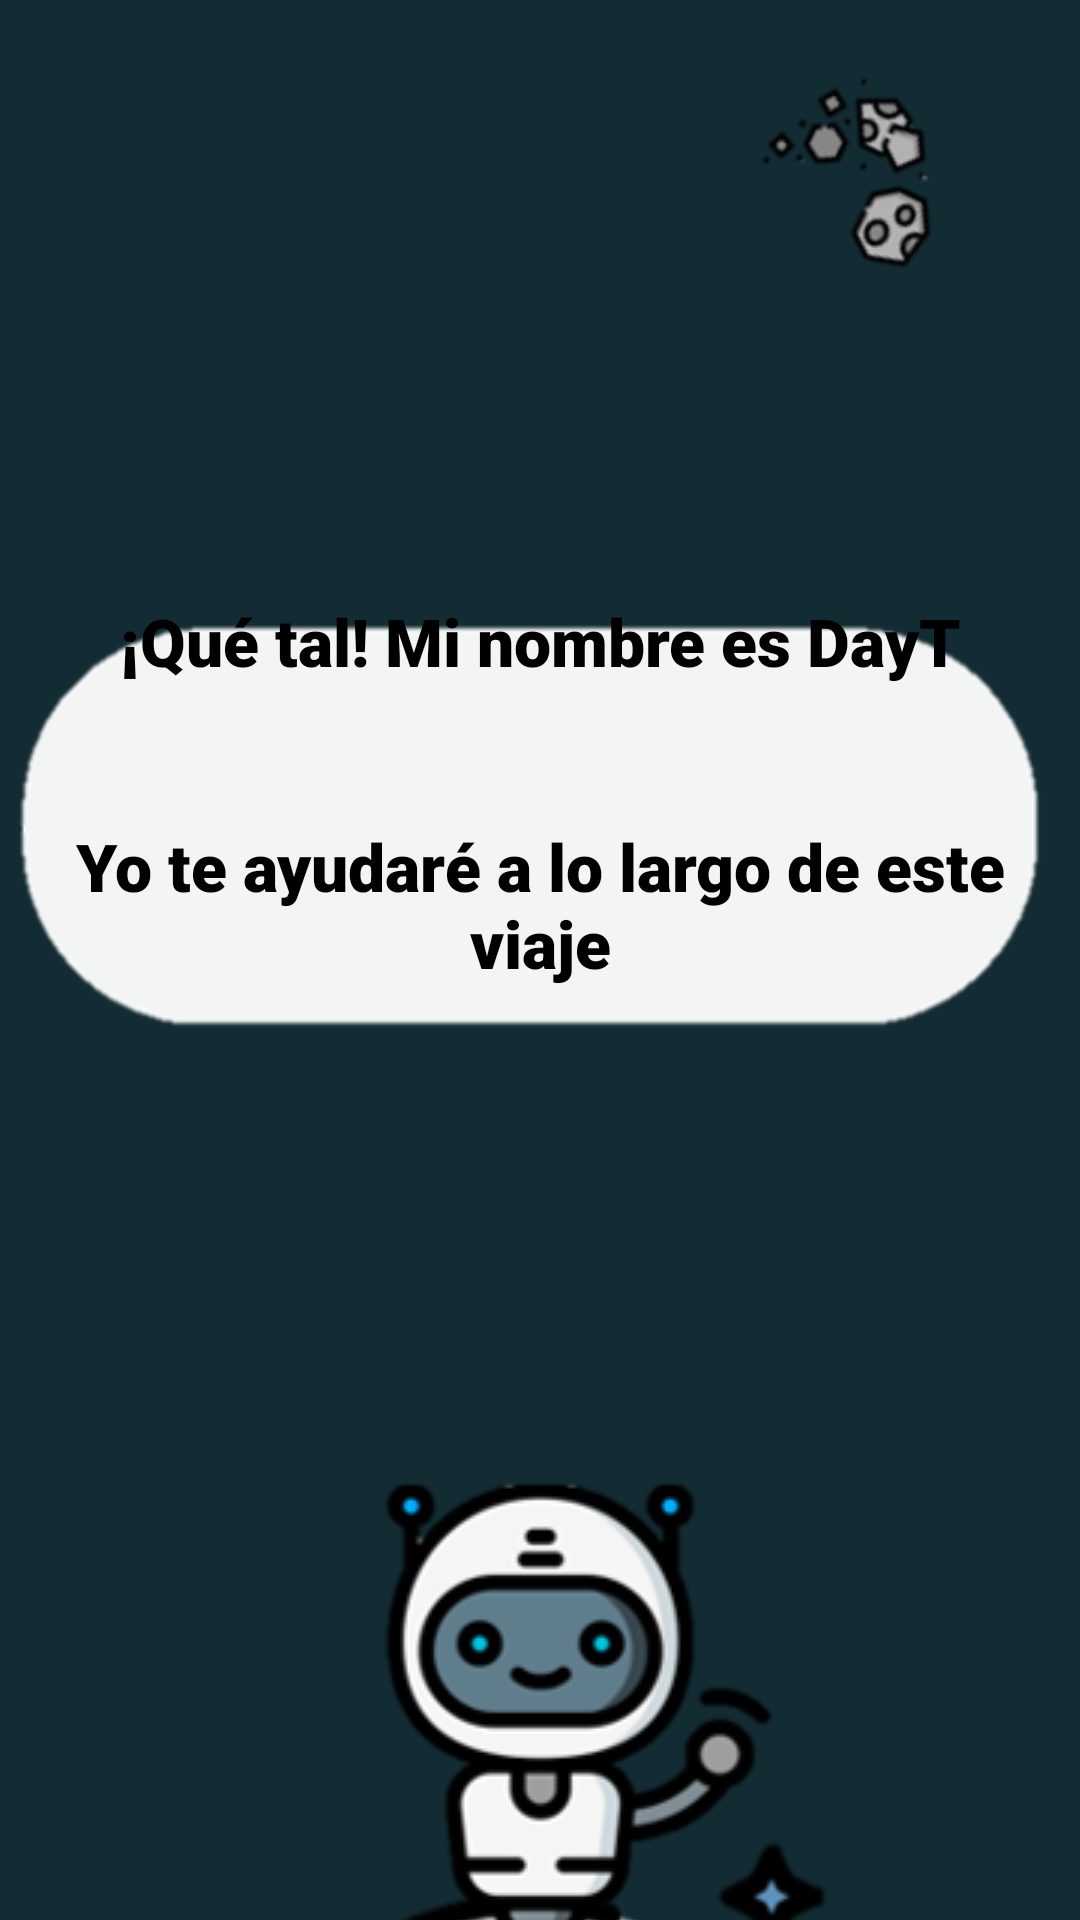

Where icons sit on this 1080px×1920px app screen, as (x1, y1, x2, y2):
asteroides: (764, 80, 930, 266)
